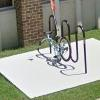Bicycle: (33, 21, 77, 68)
